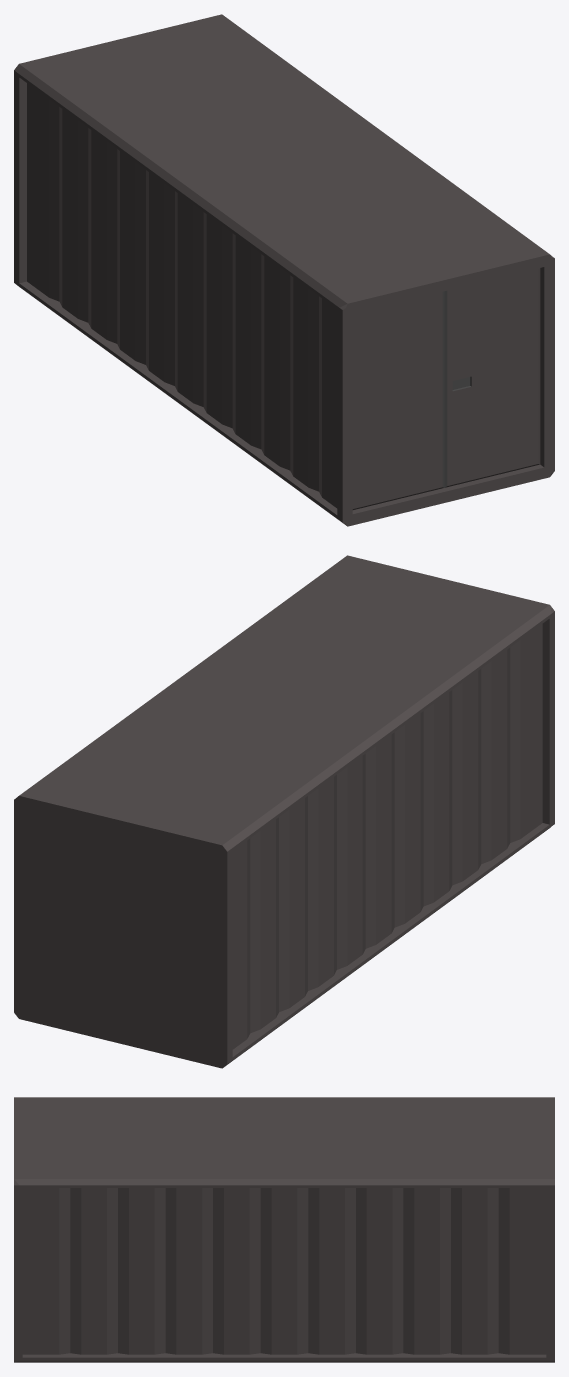
The model's file is container1_red.fbx.
3 views of the same model, one above another, from view 1: azimuth 30°, elevation 25°; view 2: azimuth 150°, elevation 25°; view 3: azimuth 270°, elevation 25° (orthographic). The views are drawn at different scales.
Parts seen in each view (by area): view 1: Cube; view 2: Cube; view 3: Cube.
Boxes of the visible parts, box(x1,y1,x2,y2) form: Cube: box(14, 14, 554, 526); Cube: box(14, 555, 554, 1068); Cube: box(14, 1097, 554, 1362).
Size of the model in its own units: 300 by 300 by 800.
